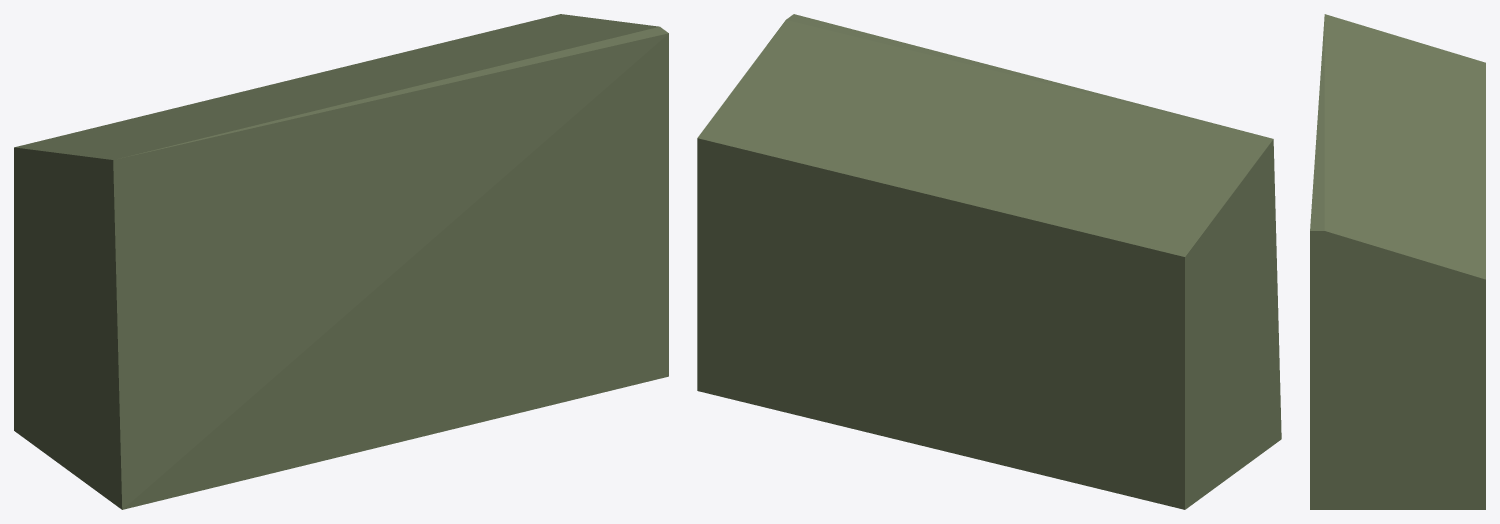
Rendered from simple_example_hole_part_29.obj.
3 views of the same model, side by side, from view 1: azimuth 30°, elevation 25°; view 2: azimuth 150°, elevation 25°; view 3: azimuth 270°, elevation 25° (orthographic). The views are drawn at different scales.
Size of the model in its own units: 20.19 by 12.12 by 6.92.
